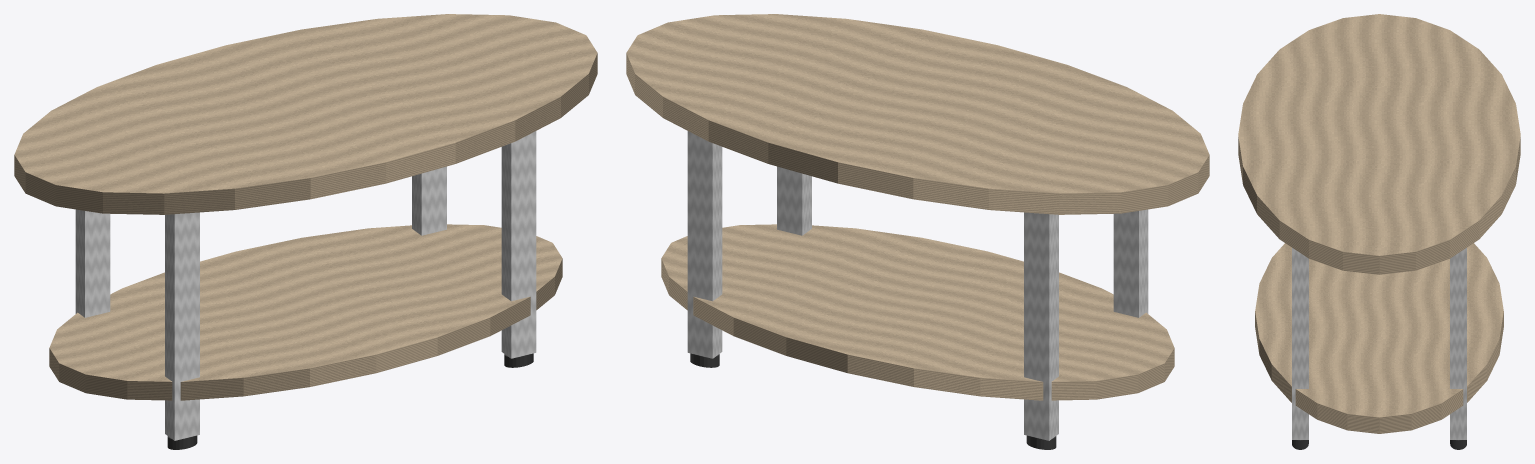
3 renders of one model, left to right at view 1: azimuth 30°, elevation 25°; view 2: azimuth 150°, elevation 25°; view 3: azimuth 270°, elevation 25°, orthographic. The views are drawn at different scales.
Visible parts, largest first — view 1: 1 tabletop, 2 lower_shelf, 3 leg_front_left, 4 leg_front_right, 5 leg_back_left, 6 leg_back_right; view 2: 1 tabletop, 2 lower_shelf, 5 leg_back_left, 6 leg_back_right, 3 leg_front_left, 4 leg_front_right; view 3: 1 tabletop, 2 lower_shelf, 4 leg_front_right, 6 leg_back_right.
Boxes of the visible parts, box(x1,y1,x2,y2) form: 1 tabletop: box(14, 14, 597, 214); 2 lower_shelf: box(49, 224, 562, 400); 3 leg_front_left: box(165, 212, 199, 440); 4 leg_front_right: box(501, 131, 536, 358); 5 leg_back_left: box(75, 209, 110, 317); 6 leg_back_right: box(412, 166, 446, 235); 1 tabletop: box(626, 14, 1209, 214); 2 lower_shelf: box(661, 224, 1174, 400); 5 leg_back_left: box(1024, 212, 1058, 440); 6 leg_back_right: box(687, 131, 722, 358); 3 leg_front_left: box(1113, 209, 1148, 317); 4 leg_front_right: box(777, 166, 811, 235); 1 tabletop: box(1238, 14, 1520, 274); 2 lower_shelf: box(1255, 243, 1503, 433); 4 leg_front_right: box(1292, 248, 1308, 439); 6 leg_back_right: box(1450, 248, 1466, 439).
Bounding box in the file's own units: 1 × 0.4572 × 0.4953.
3 materials, 2 textured.
